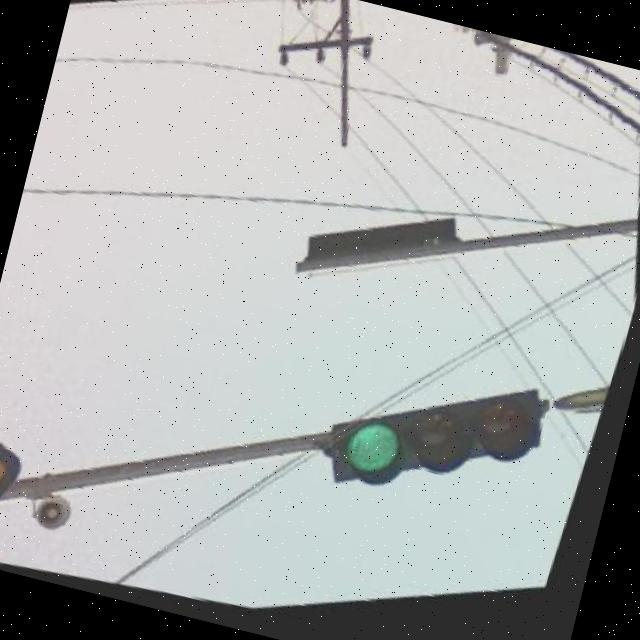green_light: (301, 336, 570, 549)
